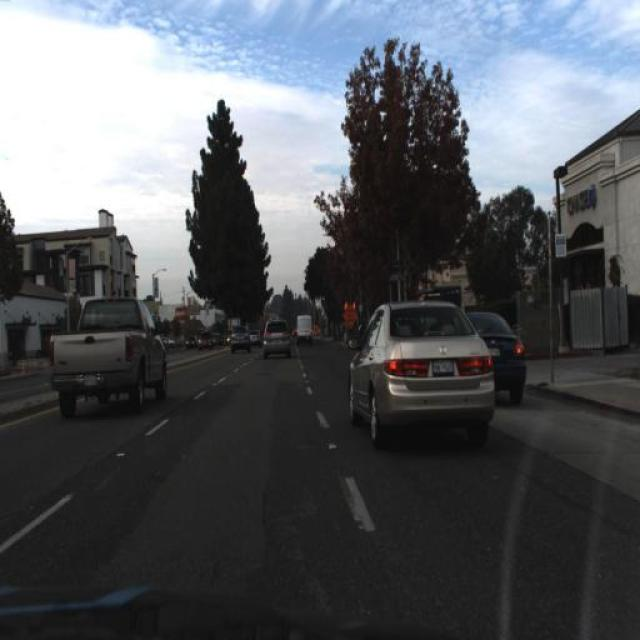car: (341, 294, 500, 457), (40, 286, 174, 422), (456, 298, 532, 412), (258, 310, 296, 365), (292, 305, 319, 353), (226, 316, 252, 359), (294, 314, 314, 344), (184, 332, 200, 352), (198, 333, 214, 352), (248, 326, 262, 345)
